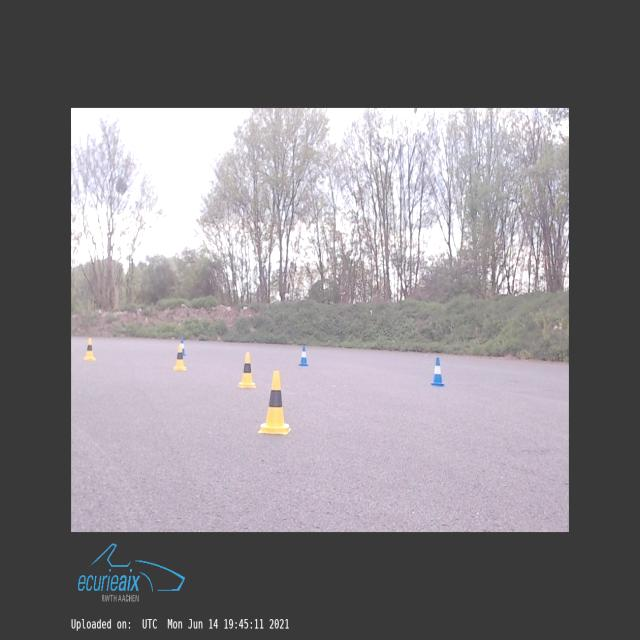blue_cone: (430, 358, 444, 386), (299, 346, 309, 366), (181, 340, 186, 354)
yellow_cone: (259, 372, 291, 435), (238, 352, 256, 388), (174, 344, 186, 370), (84, 338, 95, 360)
